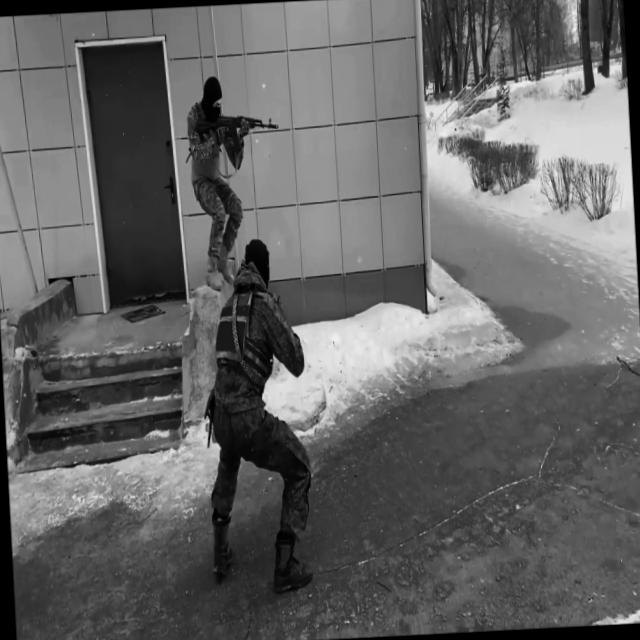gun: (195, 108, 282, 159)
person: (195, 242, 318, 583)
person with a gun: (184, 72, 289, 294)
